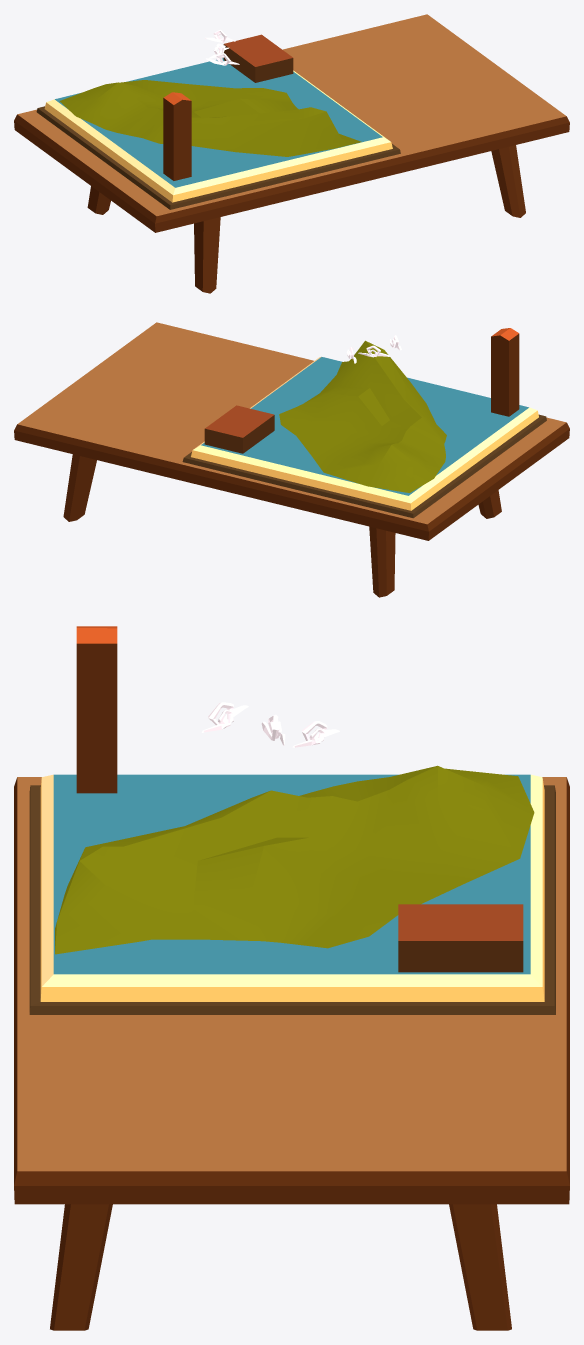
Rendered from mapTable.glb.
The picture shows the model from 3 angles, top to bottom: view 1: azimuth 30°, elevation 25°; view 2: azimuth 150°, elevation 25°; view 3: azimuth 270°, elevation 25°; orthographic projection. The views are drawn at different scales.
Visible parts, largest first — view 1: Cube.007, Cube, island-photo, Cube.008, Cube.005, Cube.001, Icosphere.039; view 2: Cube.007, Cube, island-photo, Cube.008, Cube.005, Cube.001, Icosphere.039; view 3: Cube.007, Cube, island-photo, Cube.008, Cube.001, Cube.005, Icosphere.039.
Boxes of the visible parts, x1,y1,x2,y2 form: Cube.007: (14,14,569,232); Cube: (36,58,400,209); island-photo: (59,80,361,156); Cube.008: (87,145,525,293); Cube.005: (163,92,191,180); Cube.001: (223,34,293,82); Icosphere.039: (205,29,239,65); Cube.007: (14,322,569,540); Cube: (182,356,546,518); island-photo: (279,340,446,492); Cube.008: (63,454,501,597); Cube.005: (491,328,519,416); Cube.001: (204,405,274,453); Icosphere.039: (346,335,401,363); Cube.007: (14,777,569,1204); Cube: (29,774,555,1014); island-photo: (55,765,534,954); Cube.008: (50,1204,511,1330); Cube.001: (398,904,523,972); Cube.005: (76,626,117,793); Icosphere.039: (201,702,339,747).
Size of what is drawn, in the model's own units: 3.44 by 1.55 by 2.02.
Materials: 2 (2 with a texture image).
